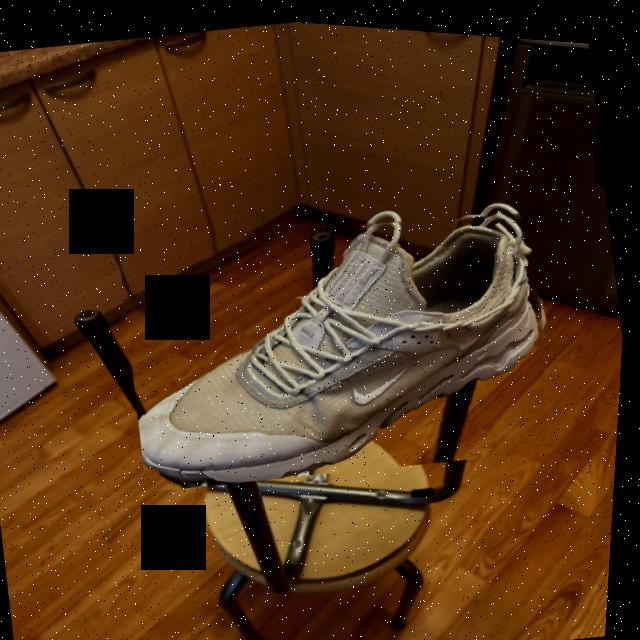shoe: (109, 166, 581, 513)
